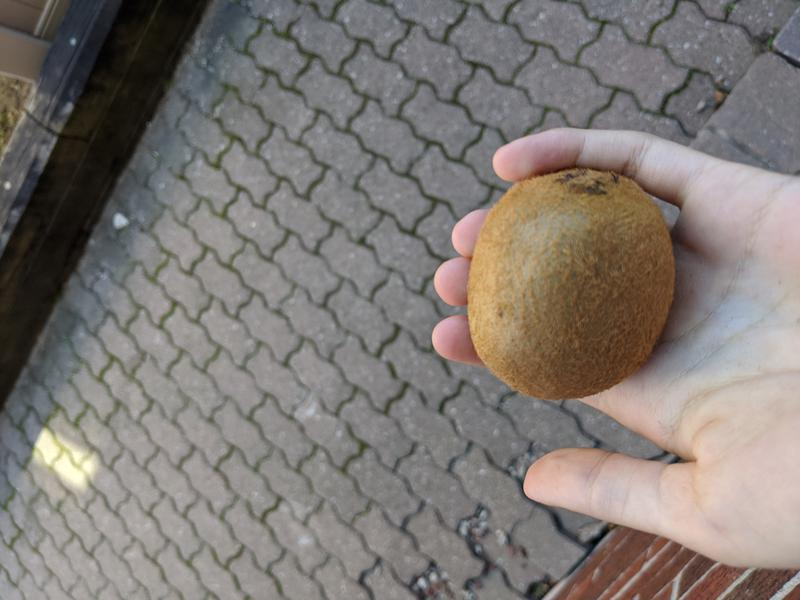kiwi: (465, 167, 677, 401)
